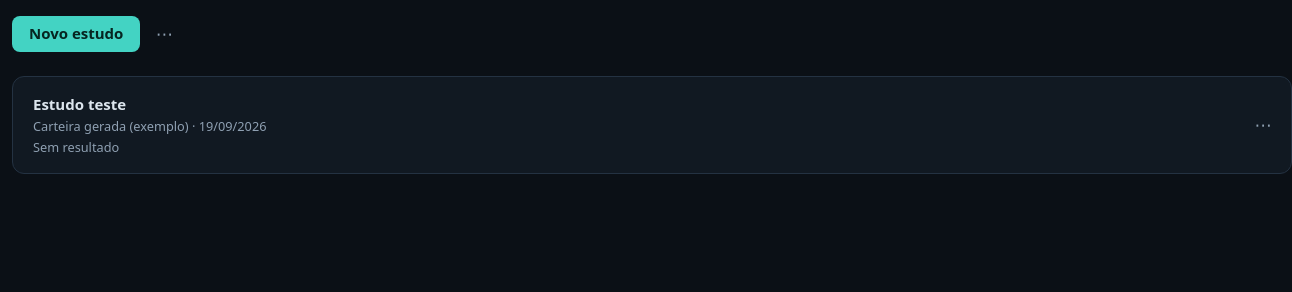
Test: StudyList › expõe Novo estudo e preserva as ações da lista
What coordinates should you click on to do the following:
click the button "Novo estudo"
I would click on:
 (76, 34)
Its box is [12, 16, 140, 52].
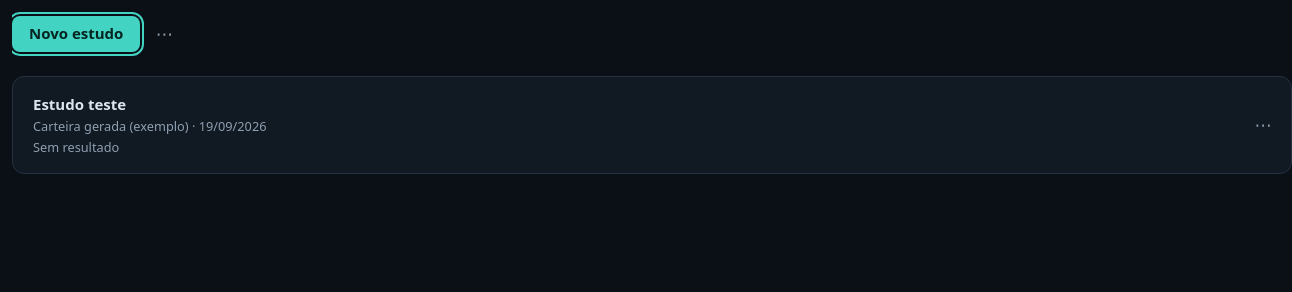
Expected: the button with aria-label "Abrir Estudo teste" is shown, [25, 84, 1235, 165]
What coordinates should you click on to do the following:
click the button named "Mais ações: Estudo teste"
I would click on:
 (1263, 125)
Its box is [1247, 109, 1279, 141].
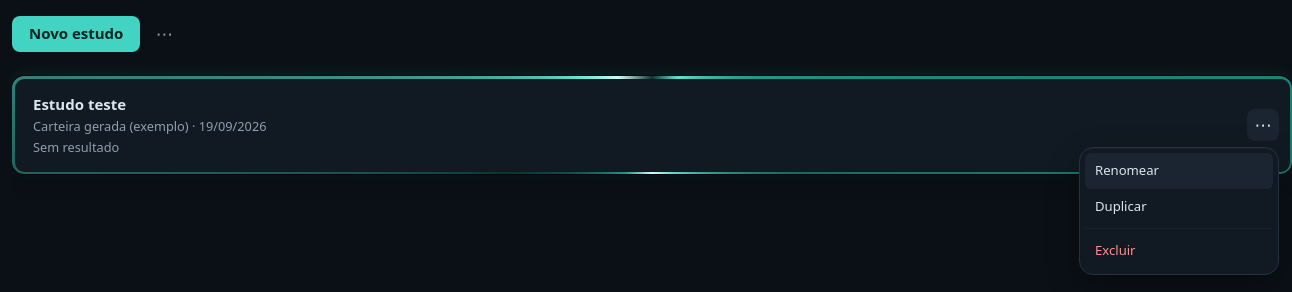
Expected: the menu item with aria-label "Renomear Estudo teste" is shown, [1085, 153, 1273, 189]
Expected: the menu item with aria-label "Duplicar Estudo teste" is shown, [1085, 189, 1273, 224]
Expected: the menu item with aria-label "Excluir Estudo teste" is shown, [1085, 233, 1273, 269]
